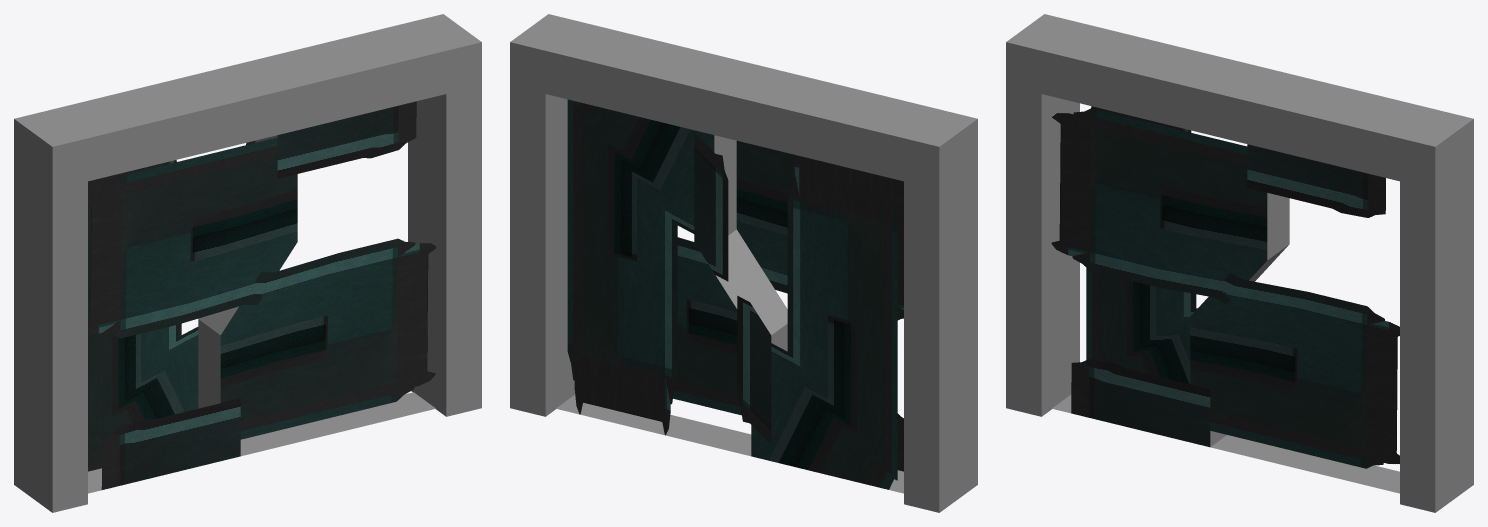
The model's file is pintu.fbx.
The picture shows the model from 3 angles, left to right: view 1: azimuth 30°, elevation 25°; view 2: azimuth 150°, elevation 25°; view 3: azimuth 330°, elevation 25°; orthographic projection.
Visible parts, largest first — view 1: Cube.003, Cube.005, Cube.004; view 2: Cube.003, Cube.004, Cube.005; view 3: Cube.003, Cube.005, Cube.004.
Boxes of the visible parts, x1,y1,x2,y2 form: Cube.003: (14,14,481,512); Cube.005: (88,137,297,493); Cube.004: (198,96,436,456); Cube.003: (510,14,977,512); Cube.004: (555,96,787,456); Cube.005: (694,133,903,493); Cube.003: (1006,14,1473,512); Cube.005: (1051,96,1289,447); Cube.004: (1190,144,1399,493).
Bounding box in the file's own units: 1089 × 169 × 887.
